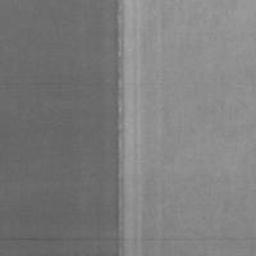Welding line: (115, 0, 124, 256)
